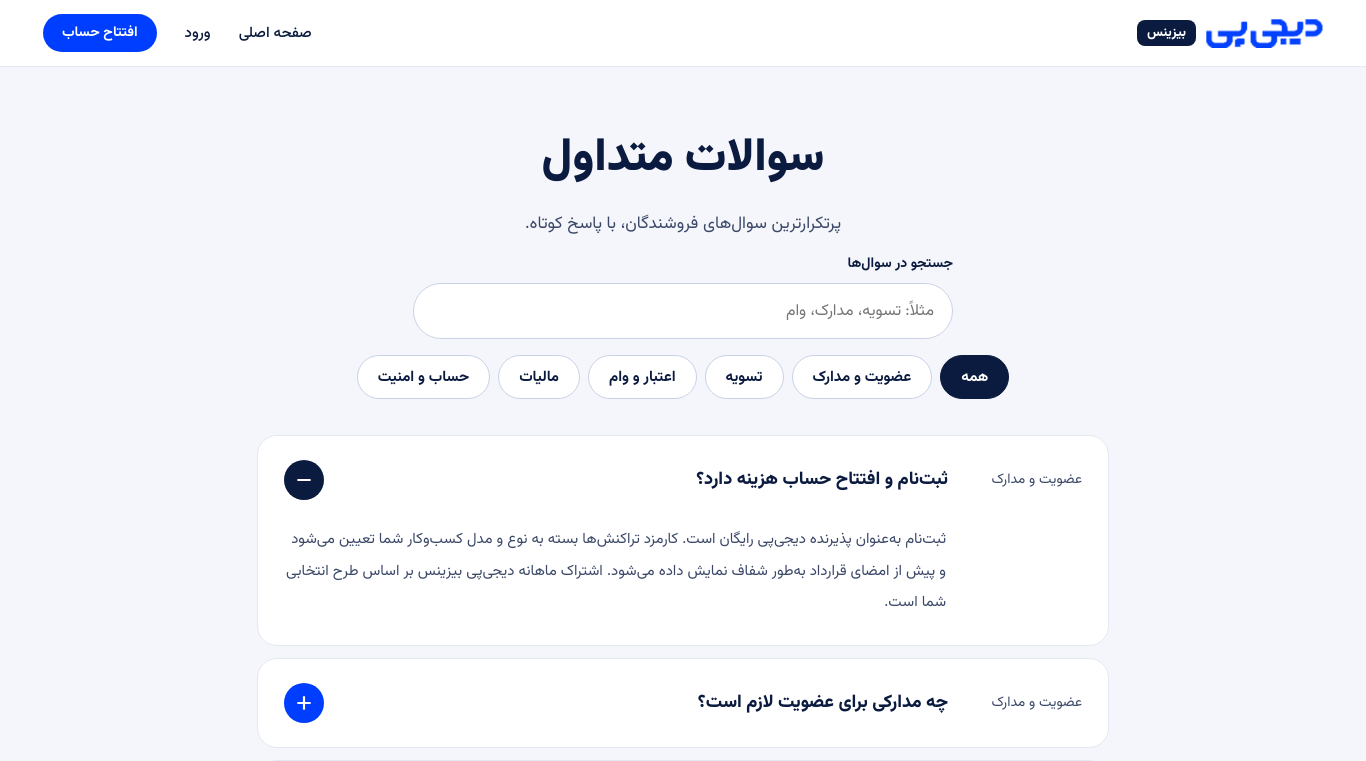
Test: filters FAQs by search text
Type "شبا" into the search field at (683, 311), box left=413, top=283, right=953, bottom=339
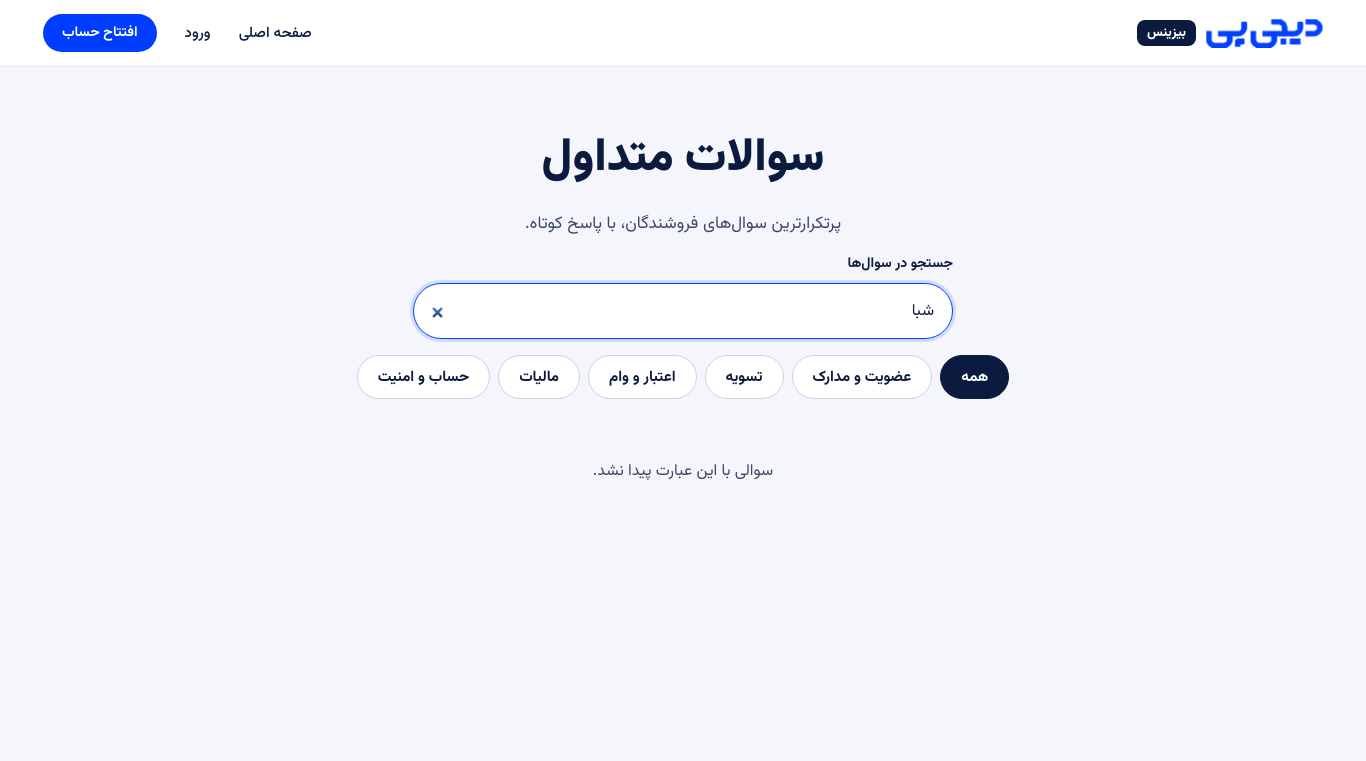
Check: the text "سوالی با این عبارت پیدا نشد." is shown, box left=593, top=459, right=773, bottom=484
Replace the text in the search field with "صورتحساب" at (683, 311), box left=413, top=283, right=953, bottom=339
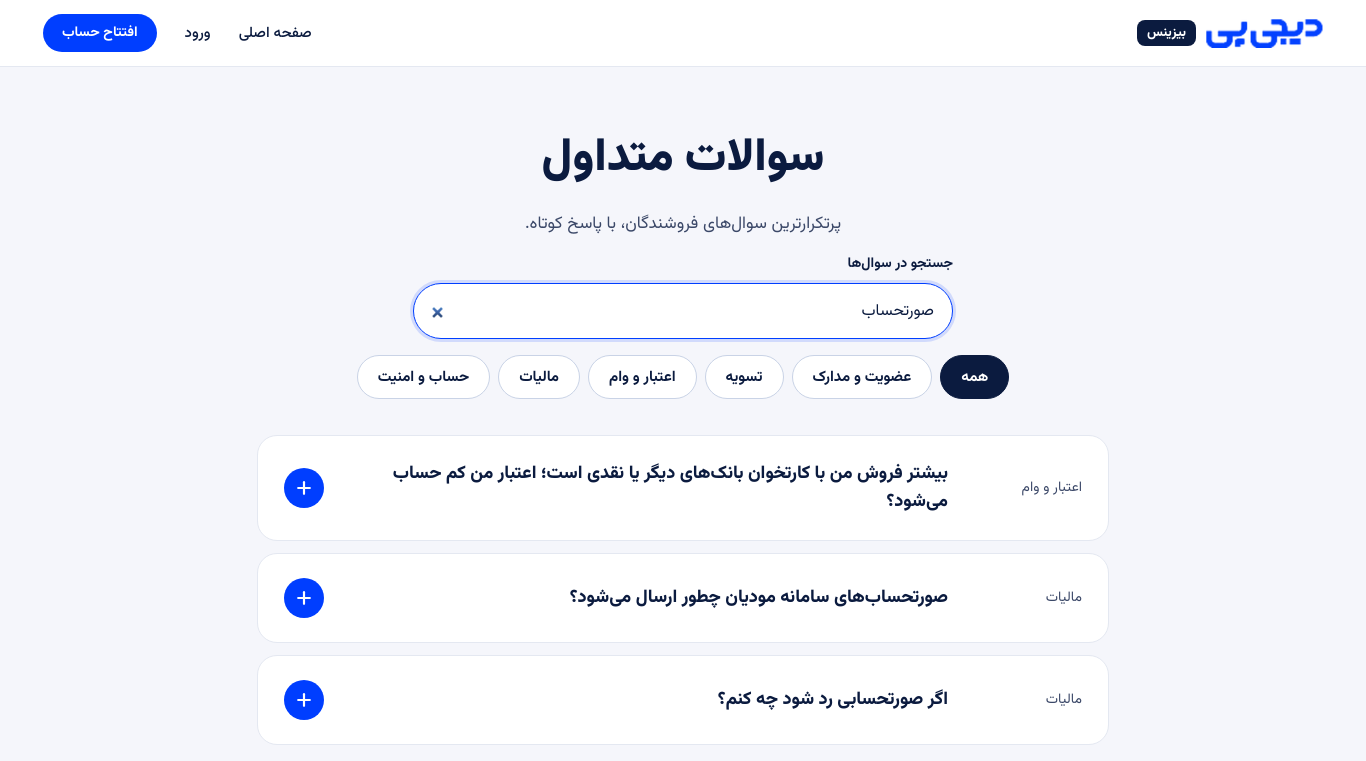
Check: the text "اگر صورتحسابی رد شود چه کنم؟" is shown, box left=718, top=686, right=948, bottom=714
Check: the button "چه مدارکی برای عضویت لازم است؟" is gone
